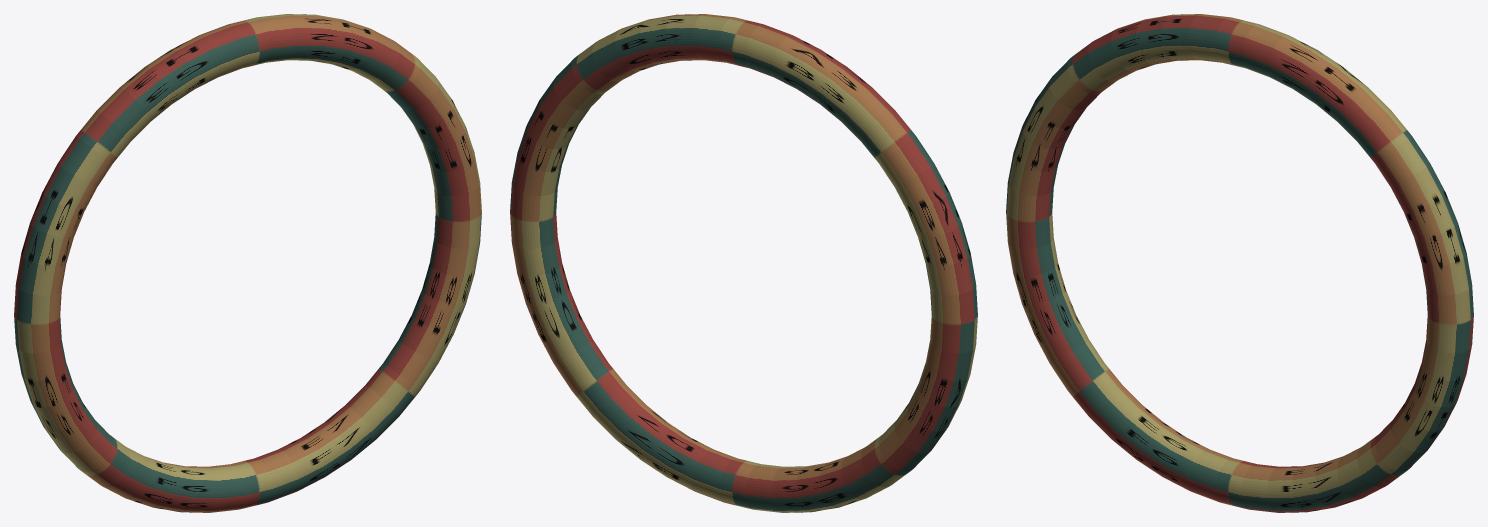
Rendered from texture_torus_R25_r2.glb.
3 views of the same model, side by side, from view 1: azimuth 30°, elevation 25°; view 2: azimuth 150°, elevation 25°; view 3: azimuth 330°, elevation 25° (orthographic).
Visible parts, largest first — view 1: world; view 2: world; view 3: world.
Boxes of the visible parts, x1,y1,x2,y2 form: world: [14, 14, 481, 512]; world: [510, 14, 977, 512]; world: [1006, 14, 1473, 512].
Bounding box in the file's own units: 29.2 × 29.14 × 2.53.
Materials: 1 (1 with a texture image).
